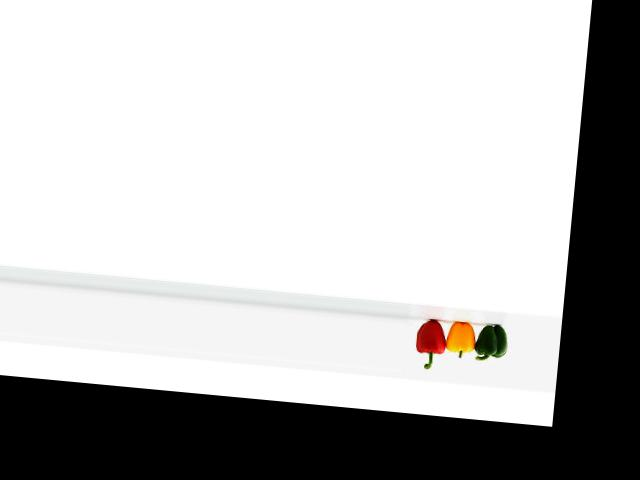bell_pepper: (404, 312, 451, 374)
